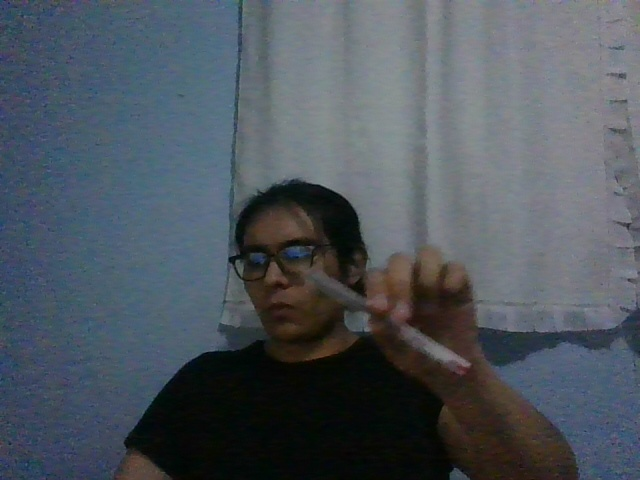pluma: (307, 273, 473, 377)
